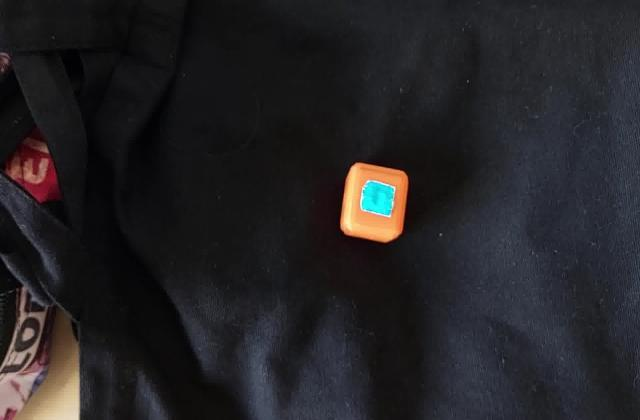blue: (368, 184, 391, 212)
sticker: (337, 159, 413, 245)
